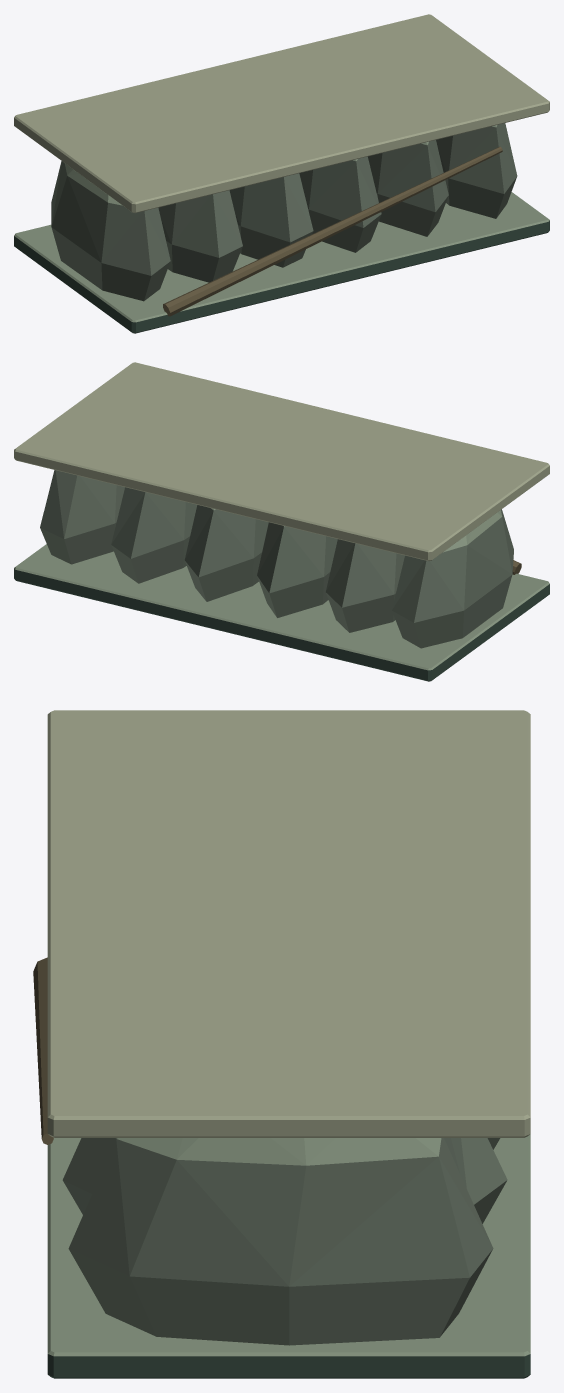
The model's file is platform-wide.glb.
3 renders of one model, top to bottom at view 1: azimuth 30°, elevation 25°; view 2: azimuth 150°, elevation 25°; view 3: azimuth 270°, elevation 25°, orthographic. The views are drawn at different scales.
Parts seen in each view (by area): view 1: platform-wide__body; view 2: platform-wide__body; view 3: platform-wide__body.
Part boxes in pixels (x1,y1,x2,y2): platform-wide__body: (14,14,549,333); platform-wide__body: (14,362,549,681); platform-wide__body: (33,710,530,1378).
Size of the model in its own units: 4 by 1.2 by 2.06.
